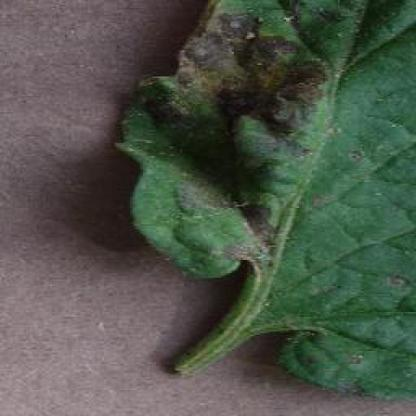Tomato_Blight: (113, 0, 416, 395)
